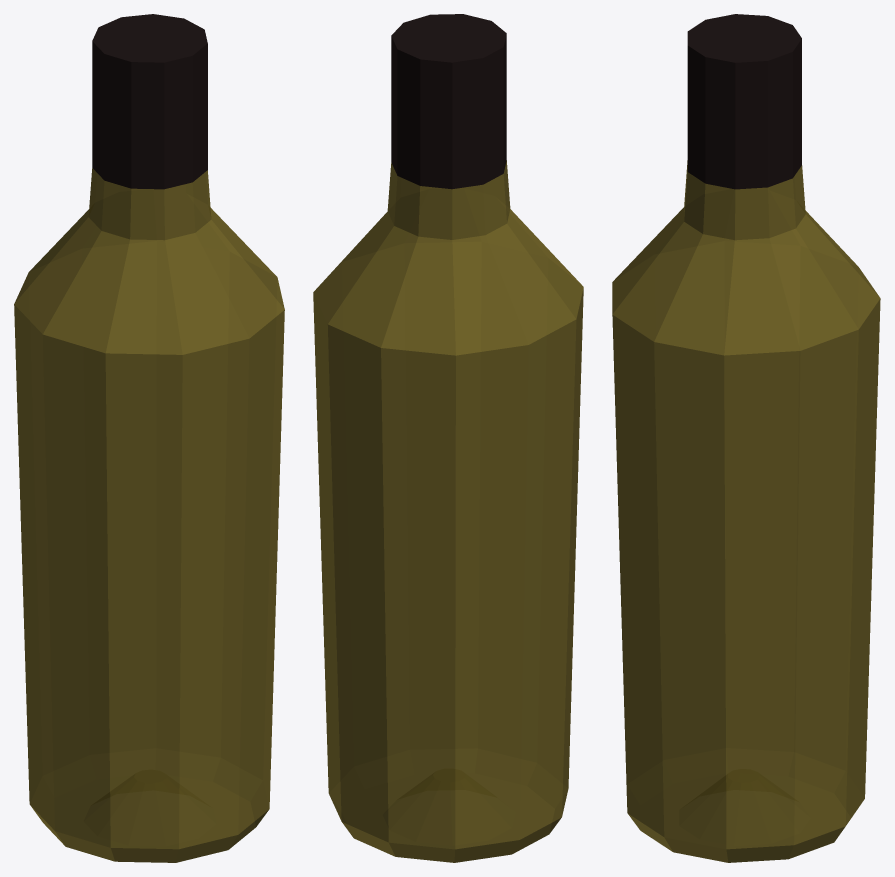
Rendered from wine-white.fbx.
The picture shows the model from 3 angles, left to right: view 1: azimuth 30°, elevation 25°; view 2: azimuth 150°, elevation 25°; view 3: azimuth 270°, elevation 25°; orthographic projection.
Visible parts, largest first — view 1: Cylinder; view 2: Cylinder; view 3: Cylinder.
Boxes of the visible parts, x1,y1,x2,y2 form: Cylinder: (14,14,284,862); Cylinder: (313,14,583,862); Cylinder: (612,14,880,862).
Size of the model in its own units: 223 by 709 by 221.
